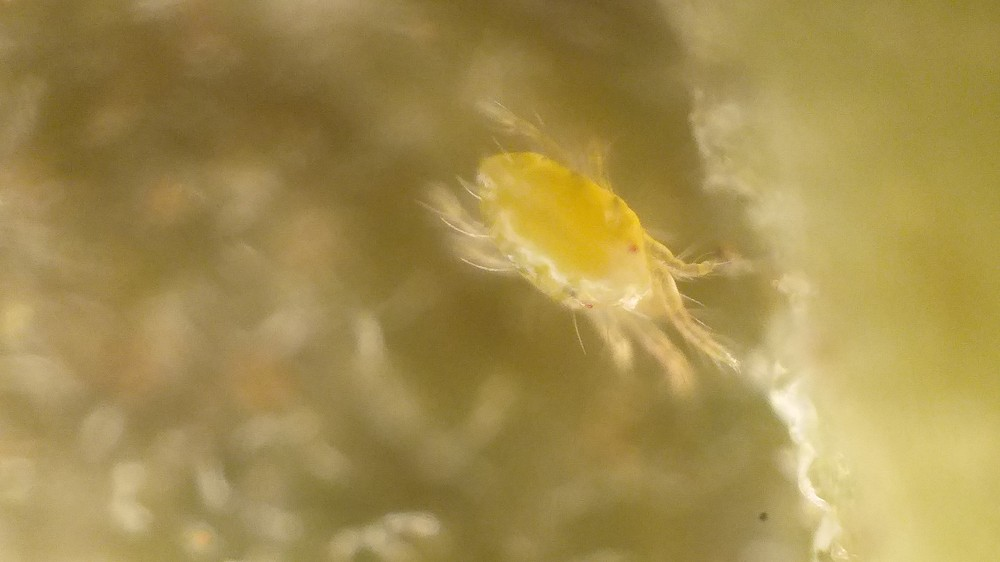Aracnido Rojo: (414, 92, 783, 432)
